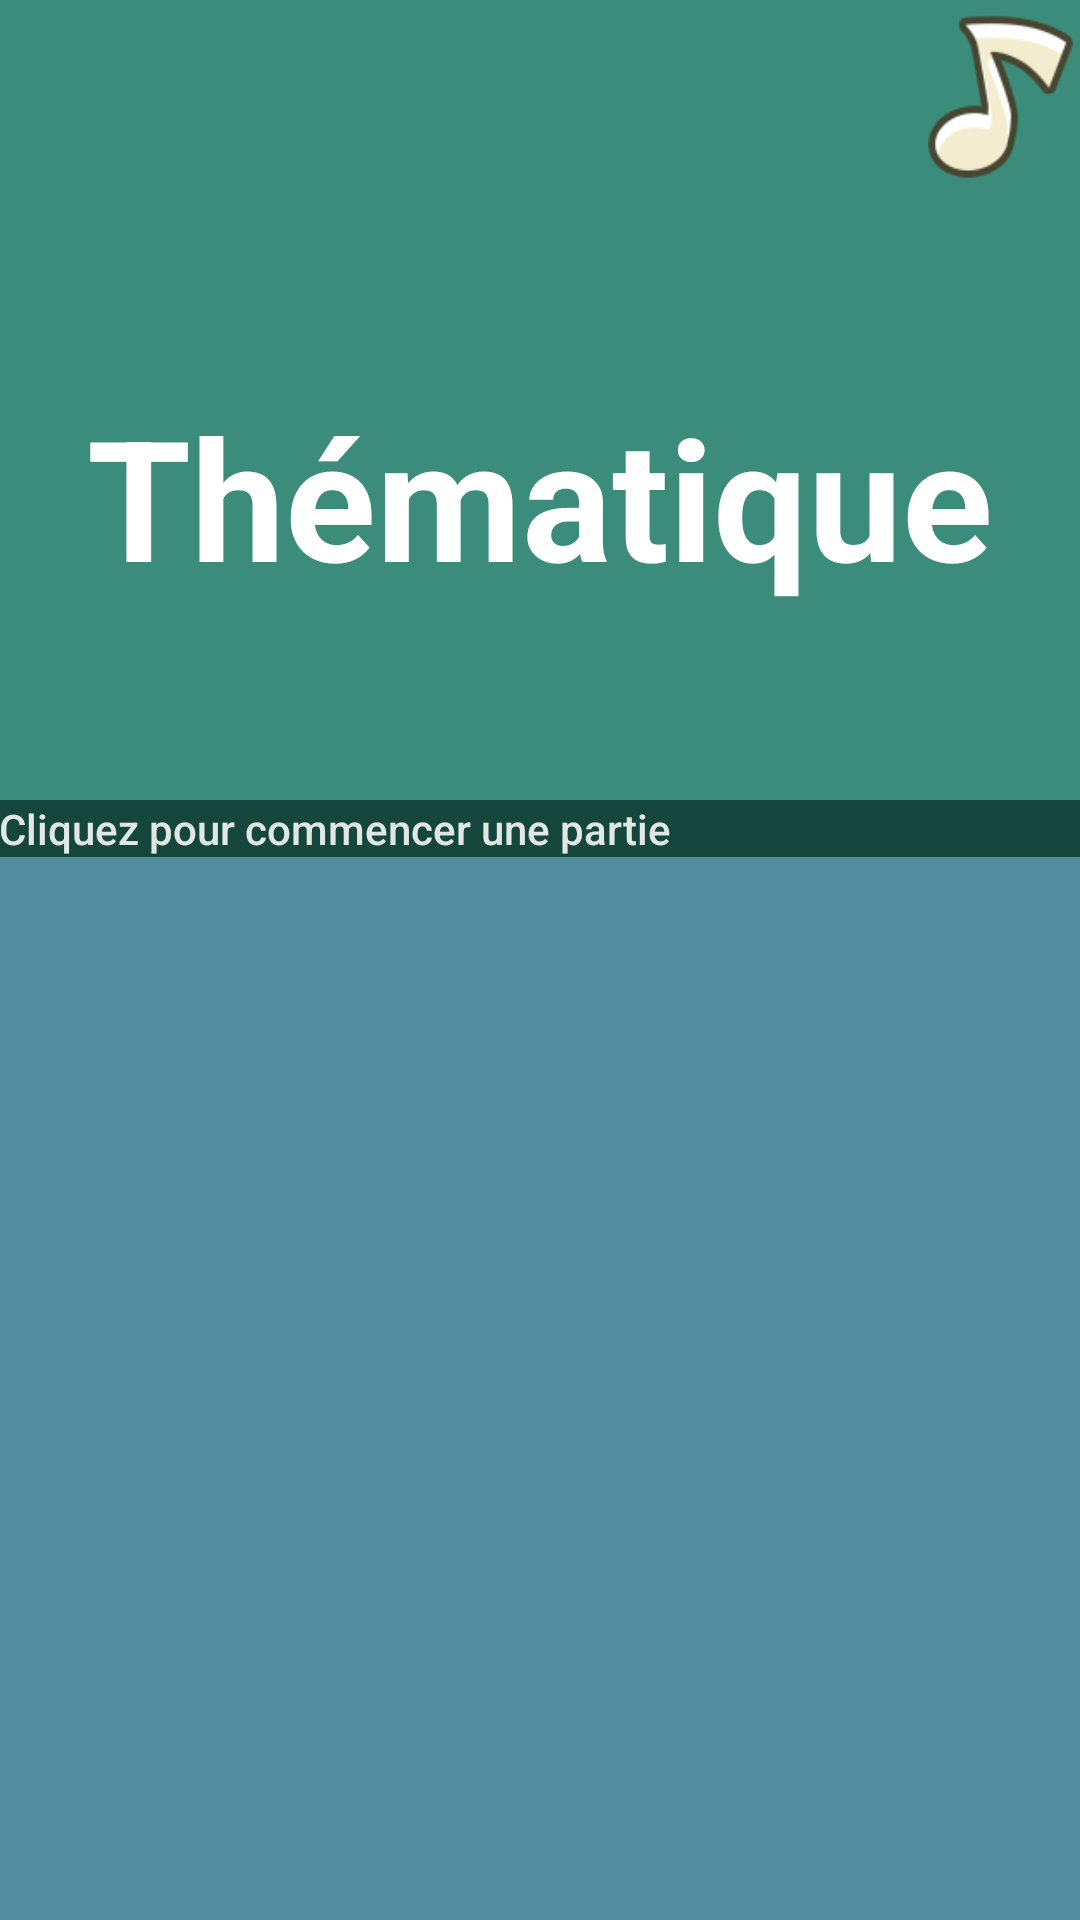

Screen size 1080w x 1920h. Icon name, then its center in pixels as point (x, y):
enable sound: point (1000, 97)
